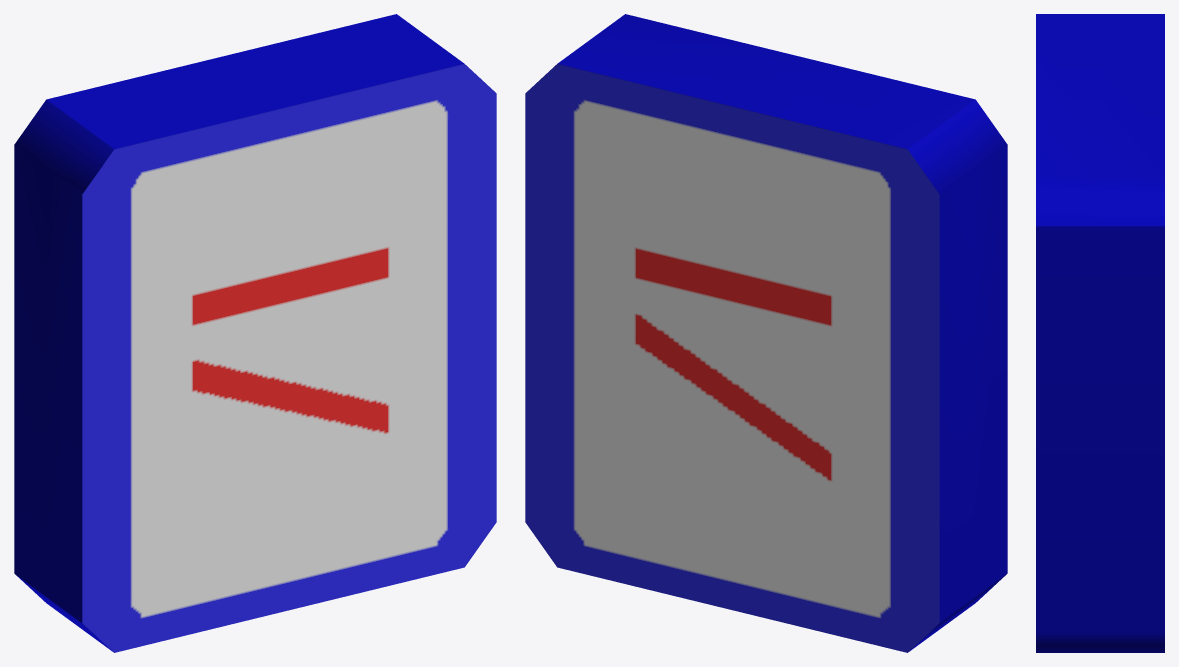
The model's file is item_key.gltf.
The picture shows the model from 3 angles, left to right: view 1: azimuth 30°, elevation 25°; view 2: azimuth 150°, elevation 25°; view 3: azimuth 270°, elevation 25°; orthographic projection. The views are drawn at different scales.
Parts seen in each view (by area): view 1: Key.3ds; view 2: Key.3ds; view 3: Key.3ds.
Part boxes in pixels (x1=…): Key.3ds: x1=14, y1=14, x2=496, y2=652; Key.3ds: x1=525, y1=14, x2=1007, y2=652; Key.3ds: x1=1036, y1=14, x2=1164, y2=652.
Bounding box in the file's own units: 0.8009 × 0.9305 × 0.2278.
1 material, 1 textured.
